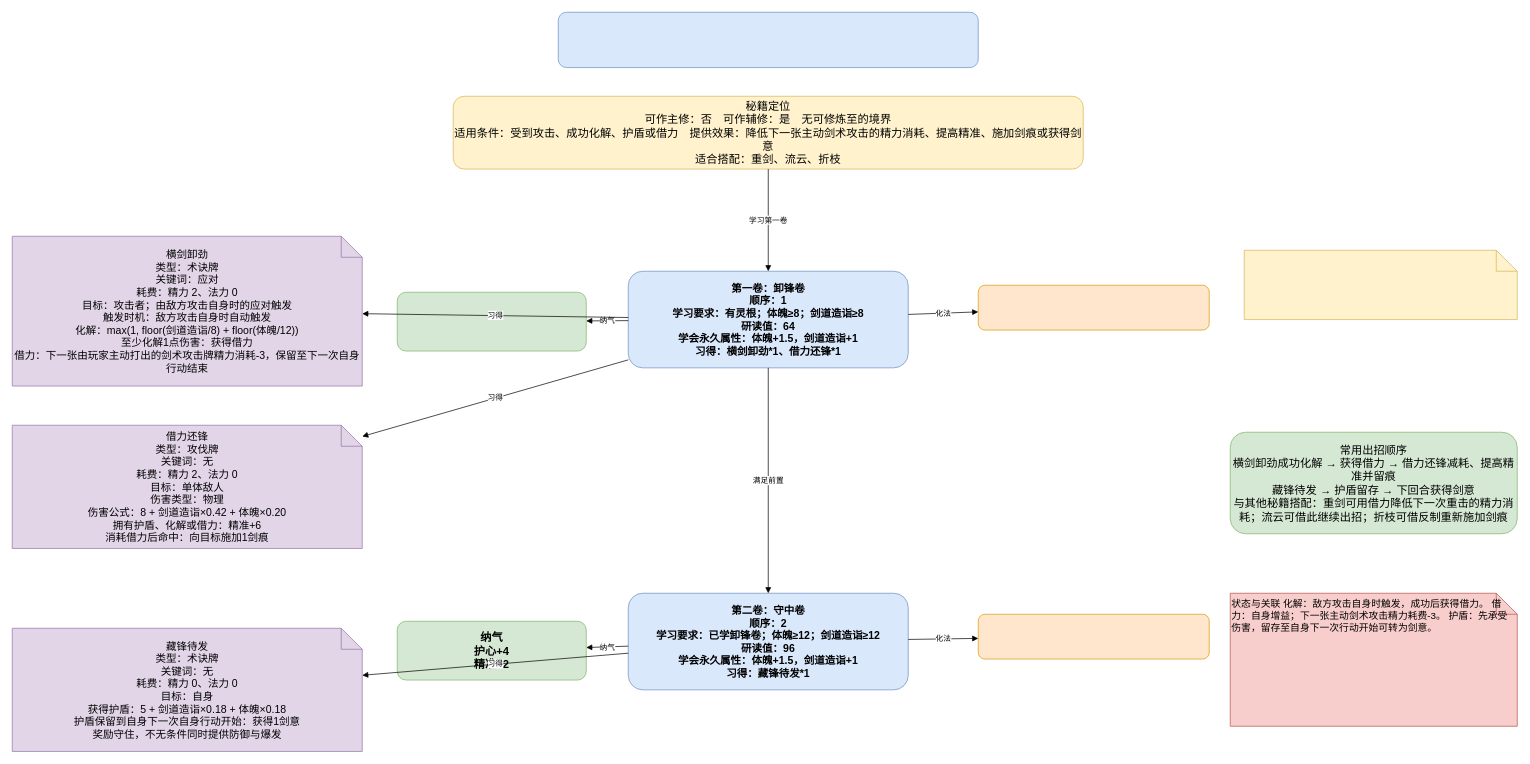
The diagram is 1530 pixels wide and 764 high, and some of its shapes have lost their labels. Here are the shapes that lost their labels. From the top down, the centre of each, then its label:
At [768,40]: "藏锋卸力诀 仅辅修 · 守御剑诀 · 体魄/剑道造诣".
At [1380,285]: "属性与路线汇总 学会永久属性：体魄+3，剑道造诣+2 纳气合计：护心+8，物理防御+2，精准+2 化法合计：替换1张格剑，额外加入1张藏锋待发".
At [491,321]: "纳气 护心+4 物理防御+2".
At [1093,307]: "化法 格剑*1 → 横剑卸劲*1".
At [1093,636]: "化法 基础技能库额外加入 藏锋待发*1".
